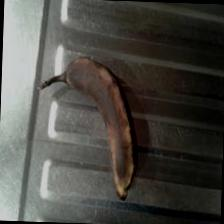Banana Rotten: (29, 50, 152, 198)
